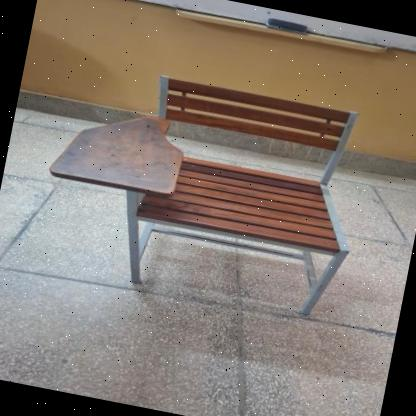chair: (23, 48, 388, 336)
